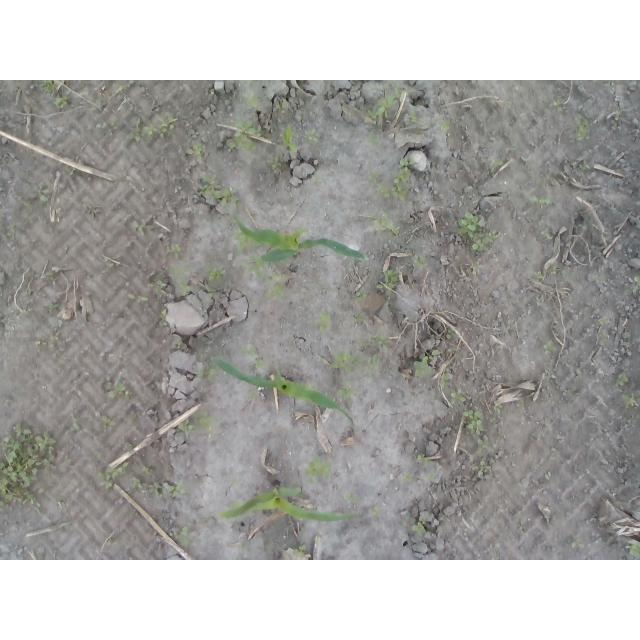Maize: (209, 356, 355, 429), (234, 214, 369, 262), (218, 482, 350, 525)
Weeds: (0, 421, 58, 507), (329, 335, 395, 374), (365, 80, 404, 145), (368, 159, 417, 201), (457, 209, 498, 252), (242, 261, 286, 300), (195, 174, 242, 210), (130, 114, 177, 142), (226, 115, 259, 154), (40, 80, 73, 112), (126, 480, 186, 497), (412, 347, 440, 379), (98, 462, 128, 491), (180, 411, 217, 434), (303, 456, 333, 481), (371, 271, 401, 294), (373, 213, 400, 238), (239, 346, 269, 368), (463, 408, 488, 433), (231, 229, 253, 256), (173, 265, 192, 295), (280, 126, 300, 154), (574, 112, 591, 144), (207, 267, 225, 293), (105, 383, 130, 401), (528, 193, 559, 207), (36, 183, 51, 209), (150, 272, 167, 294), (335, 381, 354, 400), (185, 142, 205, 160), (318, 312, 335, 332), (176, 525, 192, 546), (205, 366, 223, 384), (34, 335, 60, 347), (543, 335, 559, 353), (129, 292, 151, 304), (410, 520, 426, 536), (274, 98, 290, 114), (3, 224, 18, 241), (623, 392, 640, 407), (166, 243, 182, 258), (95, 121, 119, 131), (304, 128, 320, 143), (416, 453, 433, 466), (245, 95, 260, 109), (625, 543, 640, 557), (465, 259, 479, 273), (246, 386, 258, 402), (294, 543, 307, 557), (617, 373, 631, 386), (479, 458, 492, 472), (450, 391, 467, 401), (476, 436, 489, 449), (415, 256, 429, 268), (71, 417, 82, 432), (355, 287, 370, 298), (352, 311, 368, 321), (116, 82, 129, 94), (407, 110, 418, 124), (544, 224, 553, 240), (271, 156, 282, 169), (47, 303, 66, 310), (633, 271, 640, 289), (600, 330, 609, 344), (494, 405, 505, 416), (577, 164, 592, 172), (515, 400, 528, 409), (135, 224, 146, 234), (533, 271, 545, 280), (425, 473, 438, 481), (446, 329, 456, 339), (441, 119, 450, 130), (440, 375, 449, 386), (490, 161, 504, 168), (160, 308, 167, 321), (553, 99, 562, 109), (616, 107, 625, 117), (311, 176, 322, 184), (176, 342, 185, 351), (344, 493, 353, 501), (372, 506, 381, 514)
